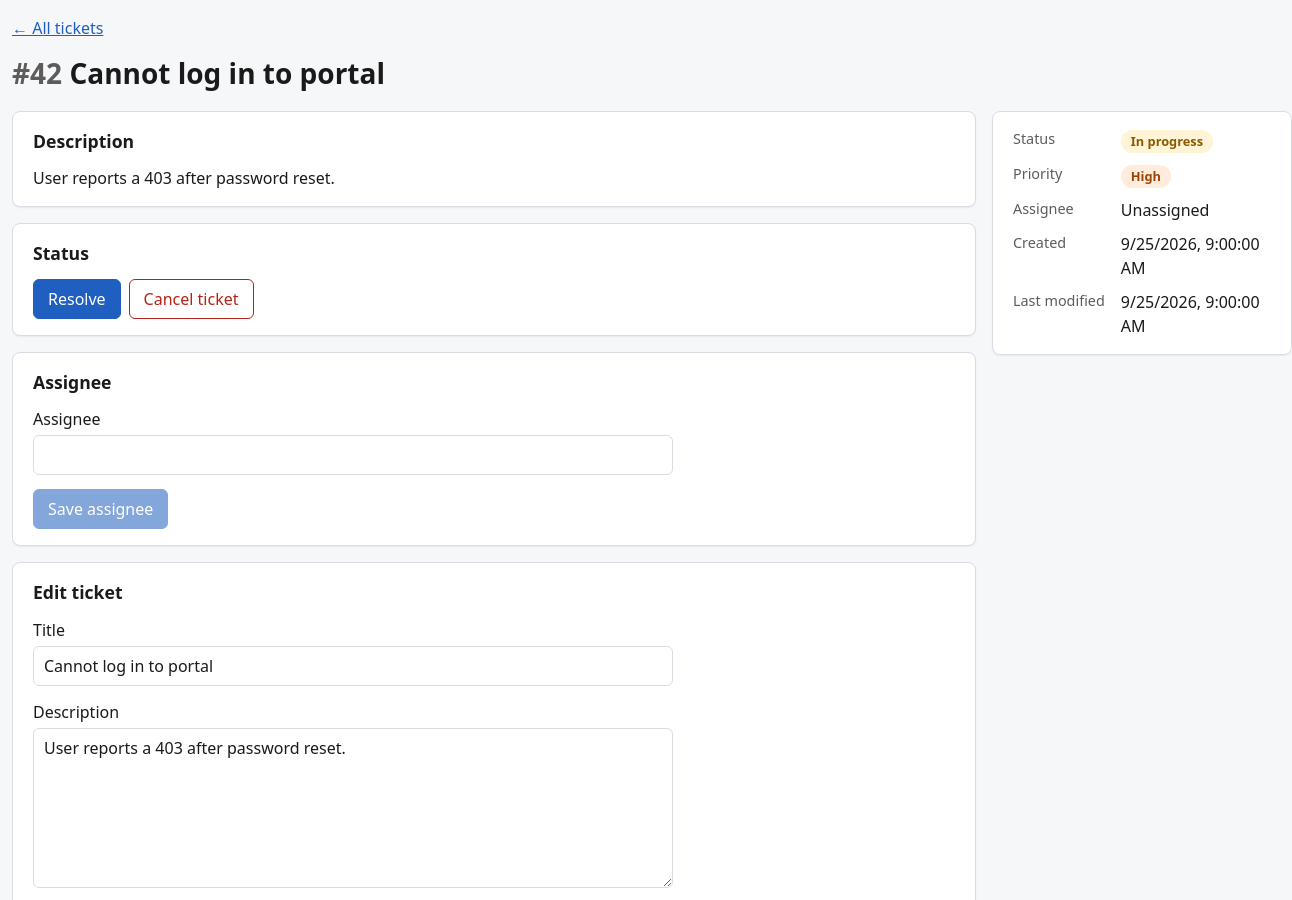
Test: status actions (REQ-11/12, TS-FE-07/08) › posts the transition with the current version and shows the new state
Click the button "Resolve" at (77, 299), box top-left (33, 279), bottom-right (121, 319)
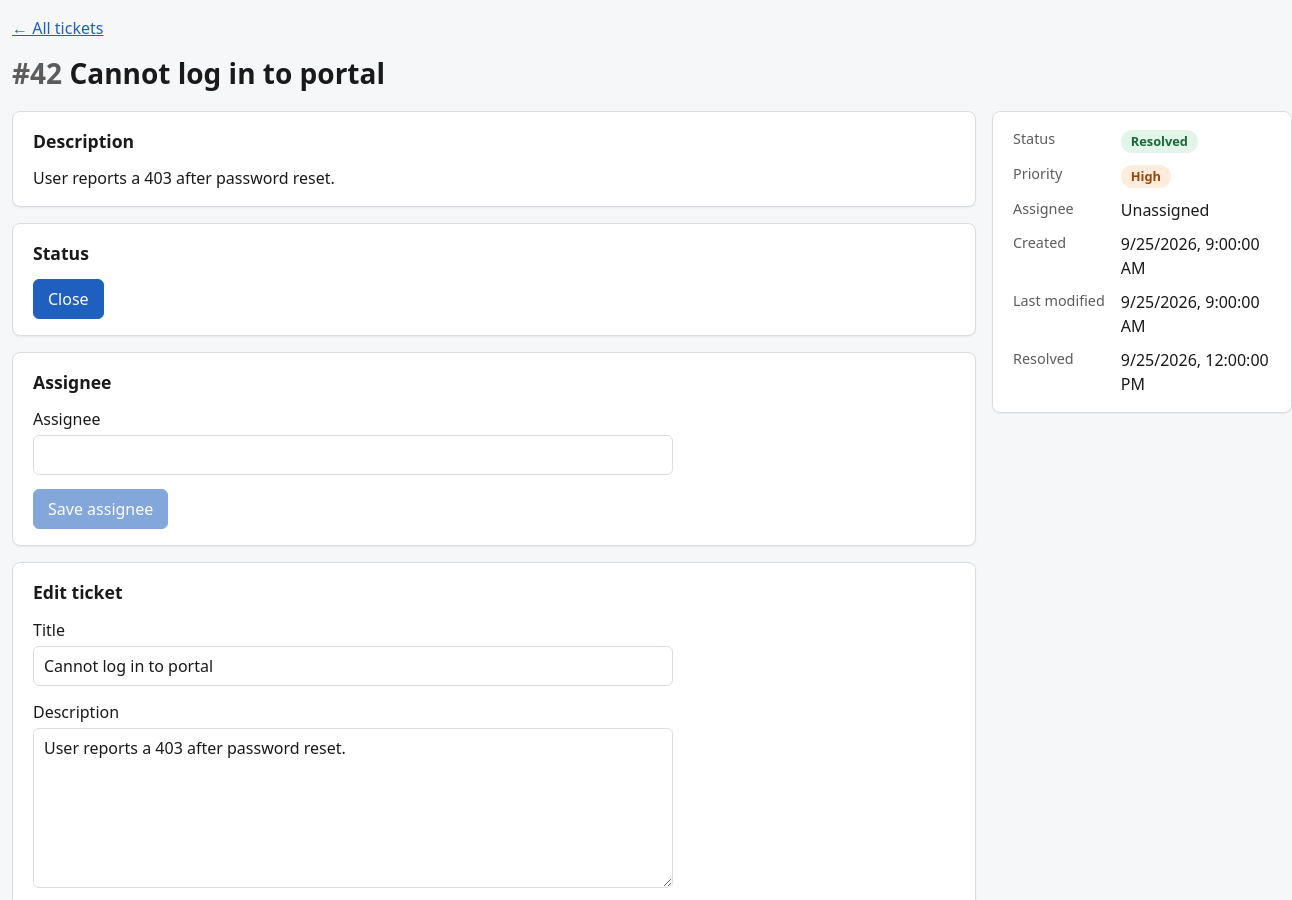
Expected: the button "Close" is shown, top-left (33, 279), bottom-right (104, 319)
